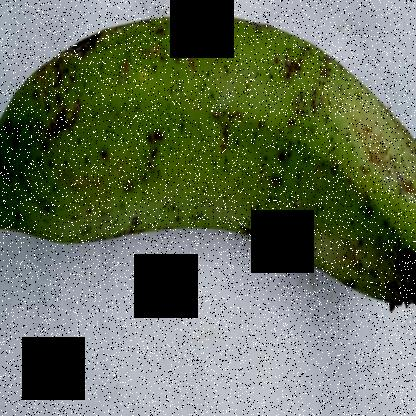unripe: (1, 0, 415, 326)
